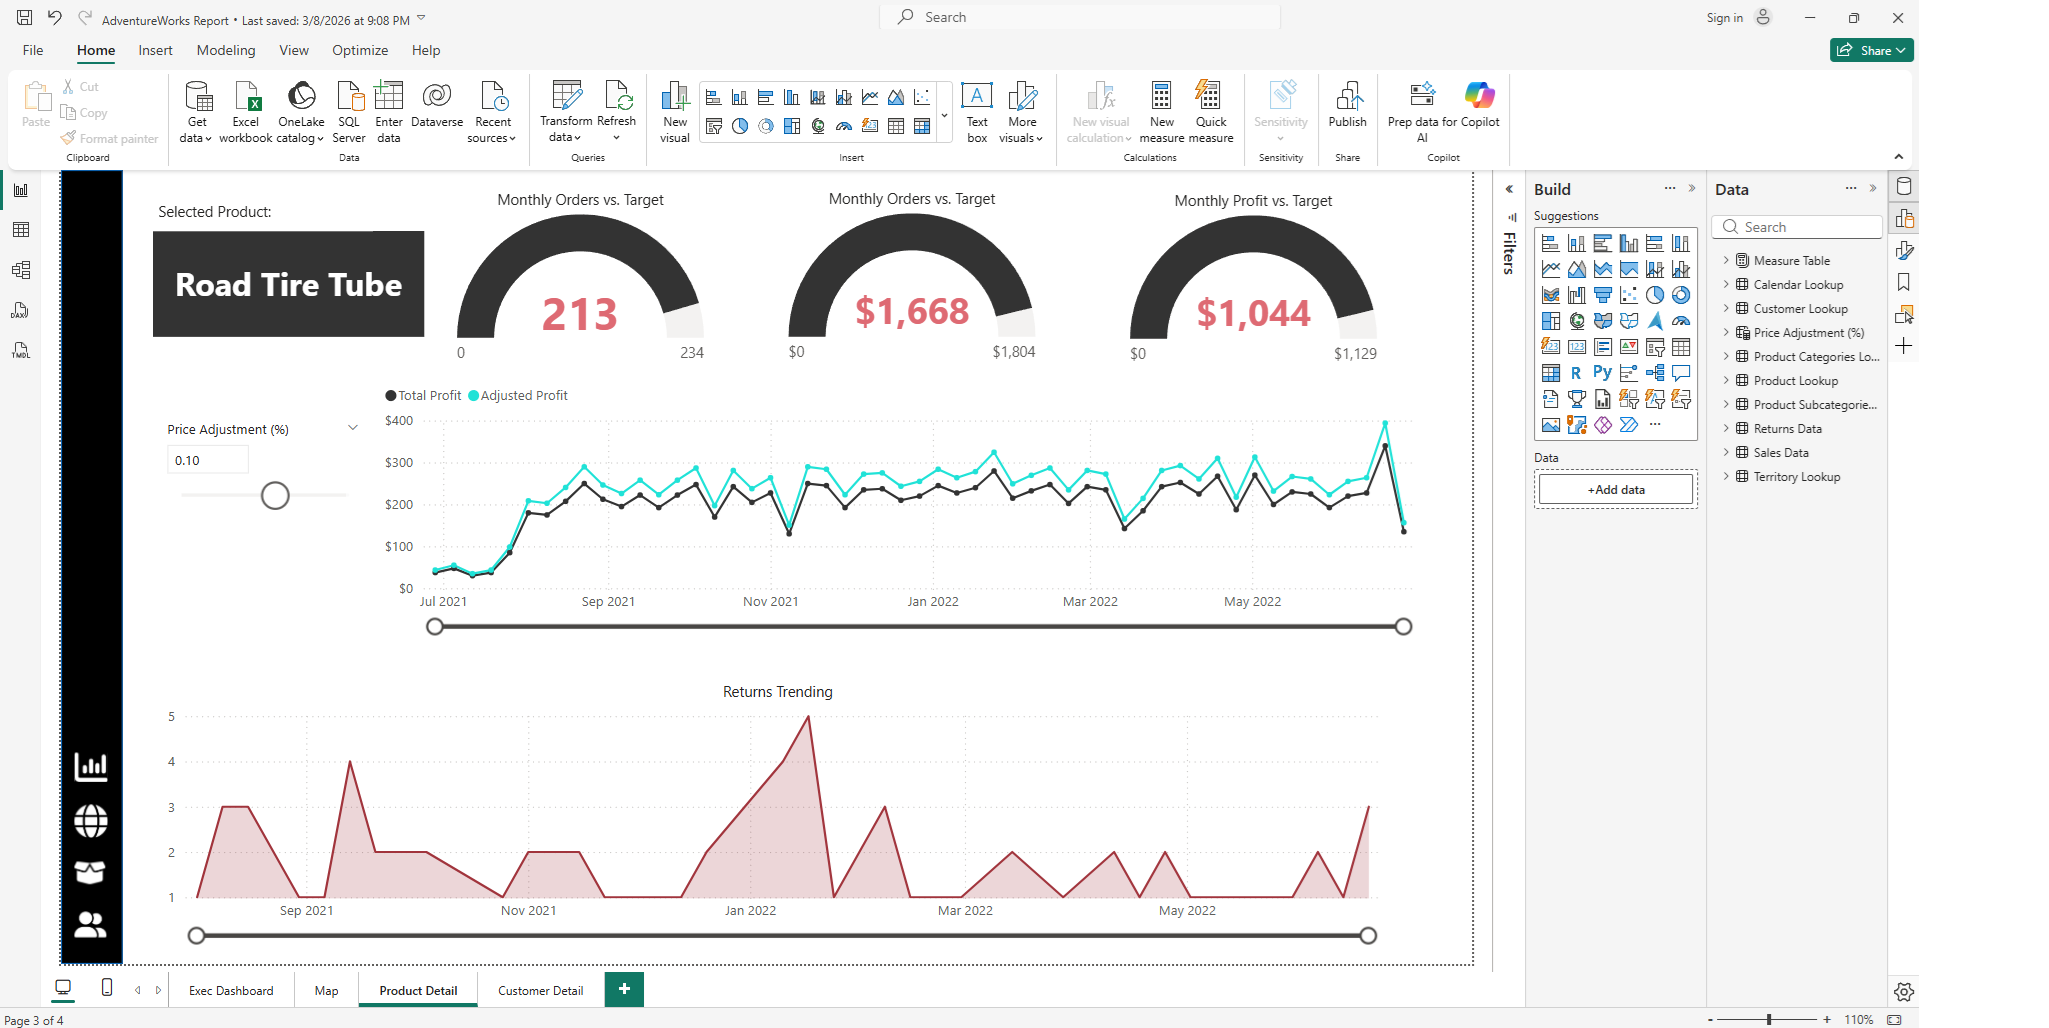

The page's visual inventory and layout, read from the dashboard file:
{"tool":"powerbi","page":{"name":"Product Detail","canvas":[1280,720],"ordinal":2},"visuals":[{"type":"shape","box":[0,0,56,720],"z":0},{"type":"actionButton","box":[8.3,521.2,38.3,39.5],"z":0,"group":"g1"},{"type":"gauge","title":"Monthly Orders vs. Target","fields":{"Y":["Measure Table.Total Orders"],"MaxValue":["Measure Table.Order Target"]},"box":[347.3,18.1,247.6,165.9],"z":1000},{"type":"actionButton","box":[8.3,570.8,38.3,38.3],"z":1000,"group":"g1"},{"type":"gauge","title":"Monthly Orders vs. Target","fields":{"Y":["Measure Table.Total Revenue"],"MaxValue":["Measure Table.Revenue Target"]},"box":[647.5,17.2,248.5,165.9],"z":2000},{"type":"actionButton","box":[8.3,619.2,38.3,36],"z":2000,"group":"g1"},{"type":"gauge","title":"Monthly Profit vs. Target","fields":{"Y":["Measure Table.Total Profit"],"MaxValue":["Measure Table.Profit Target"]},"box":[957.6,19,247.6,165.9],"z":3000},{"type":"actionButton","box":[8.3,665.1,38.3,37.2],"z":3000,"group":"g1"},{"type":"lineChart","title":"Profit Trending","fields":{"Category":["Calendar Lookup.Date Hierarchy.Start of Month","Calendar Lookup.Date Hierarchy.Start of Week","Calendar Lookup.Date Hierarchy.Date"],"Y":["Measure Table.Total Profit","Measure Table.Adjusted Profit"]},"box":[288.4,185,960.3,240.3],"z":4000},{"type":"areaChart","title":"Returns Trending","fields":{"Y":["Measure Table.Total Returns"],"Category":["Calendar Lookup.Date Hierarchy.Start of Month","Calendar Lookup.Date Hierarchy.Start of Week","Calendar Lookup.Date Hierarchy.Date"]},"box":[83.4,464.3,1133.5,241.2],"z":5000},{"type":"card","fields":{"Values":["Min(Product Lookup.ProductName)"]},"box":[83.4,55.3,245.7,96.1],"z":6000},{"type":"textbox","box":[83.4,23.6,198.6,31.7],"z":7000},{"type":"group","id":"g1","title":"Navigation buttons","box":[8.3,521.2,37.5,180.7],"z":8000},{"type":"slicer","fields":{"Values":["Price Adjustment (%).Price Adjustment (%)"]},"box":[83.4,221.3,198.6,102.5],"z":9000}]}

Visuals, with their boxes on the page's 1280x720 design canvas (x1, y1, x2, y2). These are canvas units, not pixel positions in the 2049x1028 screenshot, which may show the page scaled, cropped or inside an application window:
shape: box=[0, 0, 56, 720]
actionButton: box=[8, 521, 47, 561]
"Monthly Orders vs. Target" gauge: box=[347, 18, 595, 184]
actionButton: box=[8, 571, 47, 609]
"Monthly Orders vs. Target" gauge: box=[648, 17, 896, 183]
actionButton: box=[8, 619, 47, 655]
"Monthly Profit vs. Target" gauge: box=[958, 19, 1205, 185]
actionButton: box=[8, 665, 47, 702]
"Profit Trending" lineChart: box=[288, 185, 1249, 425]
"Returns Trending" areaChart: box=[83, 464, 1217, 706]
card - Min(Product Lookup.ProductName): box=[83, 55, 329, 151]
textbox: box=[83, 24, 282, 55]
"Navigation buttons" group: box=[8, 521, 46, 702]
slicer - Price Adjustment (%).Price Adjustment (%): box=[83, 221, 282, 324]
